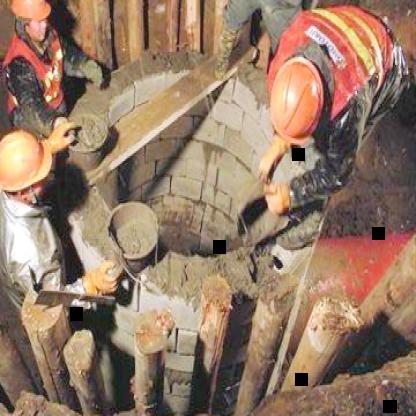helmet: (262, 50, 326, 148), (0, 128, 51, 204), (9, 0, 48, 34)
